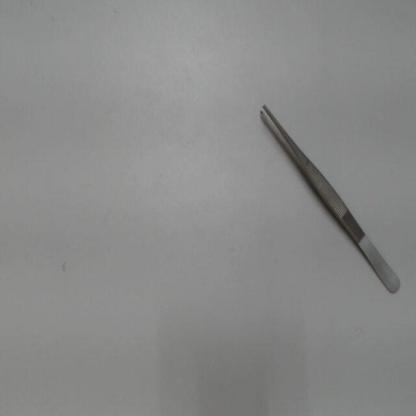Gillies Toothed Dissector: (250, 93, 406, 302)
